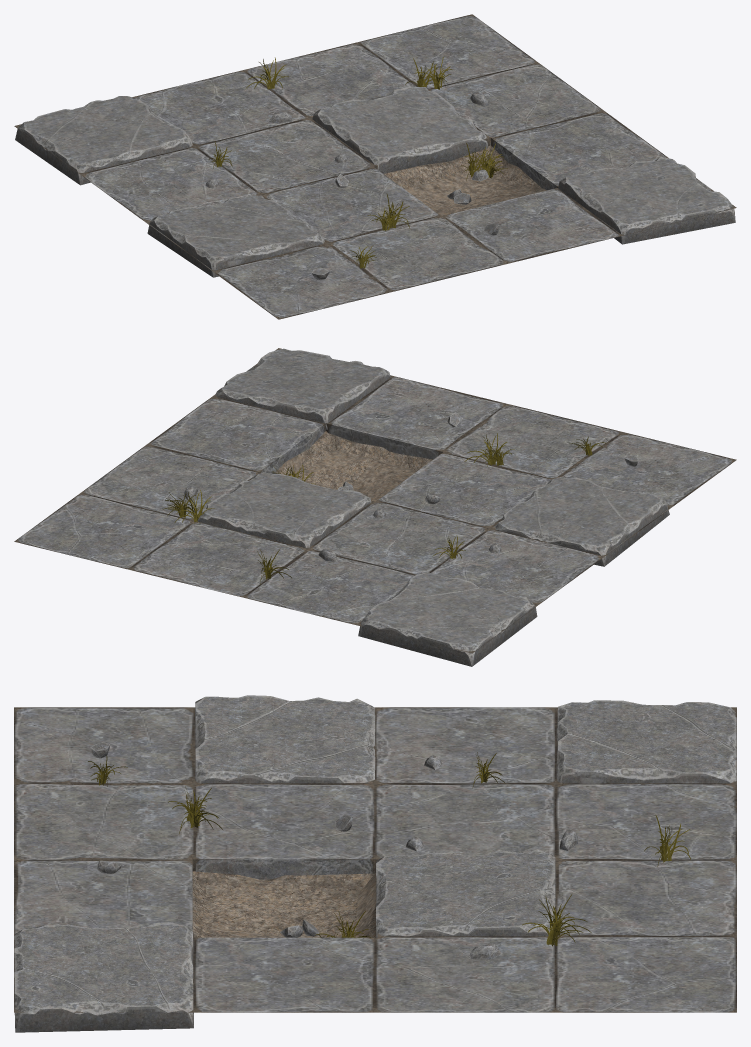
Rendered from stone_floor.glb.
The picture shows the model from 3 angles, top to bottom: view 1: azimuth 30°, elevation 25°; view 2: azimuth 150°, elevation 25°; view 3: azimuth 270°, elevation 25°; orthographic projection. The views are drawn at different scales.
Parts seen in each view (by area): view 1: StoneFloor, StoneFloor_Details, StoneFloor_Grass; view 2: StoneFloor, StoneFloor_Details, StoneFloor_Grass; view 3: StoneFloor, StoneFloor_Details, StoneFloor_Grass.
Part boxes in pixels (box(x1,y1,x2,y2)): StoneFloor: box(14, 14, 736, 319); StoneFloor_Details: box(15, 87, 735, 279); StoneFloor_Grass: box(209, 57, 507, 268); StoneFloor: box(14, 348, 736, 653); StoneFloor_Details: box(184, 348, 669, 666); StoneFloor_Grass: box(163, 433, 605, 583); StoneFloor: box(14, 707, 736, 1012); StoneFloor_Details: box(14, 695, 736, 1032); StoneFloor_Grass: box(88, 752, 690, 946).
Size of the model in its own units: 382 by 47.54 by 382.
3 materials, 3 textured.
